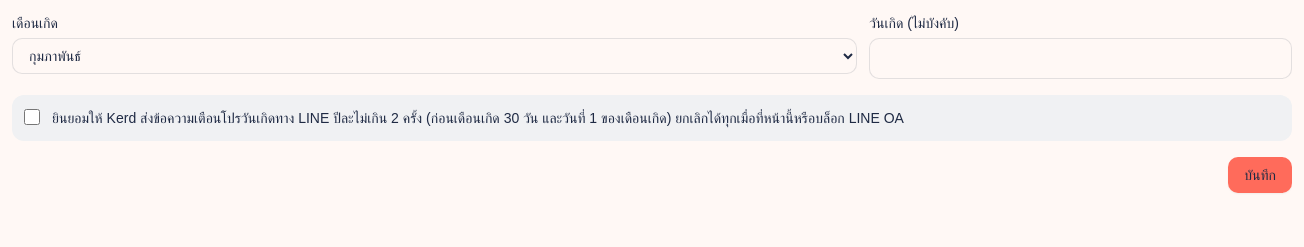
Test case: ReminderForm › หมดเวลาเข้าสู่ระบบ แจ้งให้เข้าใหม่
This screenshot has width=1304, height=247.
Click the button "บันทึก".
click(1260, 175)  # box [1228,157,1292,193]
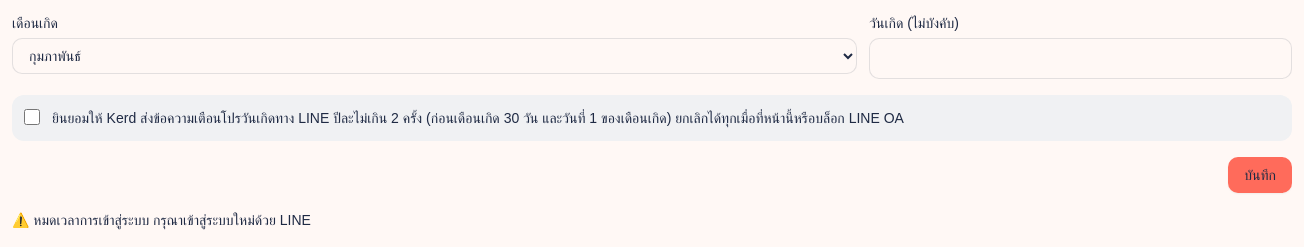
expect the message shows "เข้าสู่ระบบใหม่": met, box [33,212,311,228]
